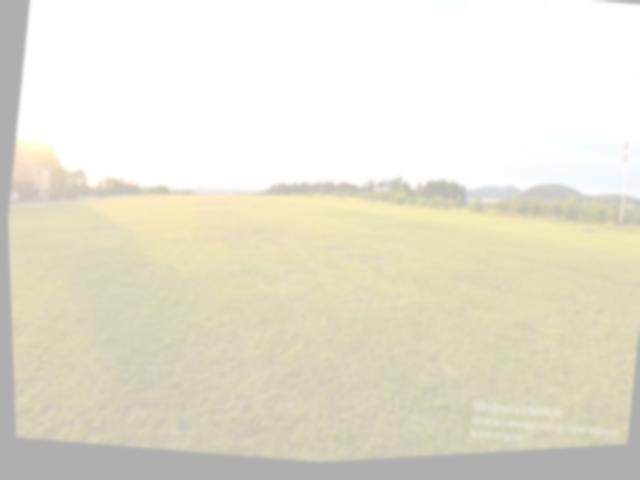plane: (370, 189, 388, 198)
